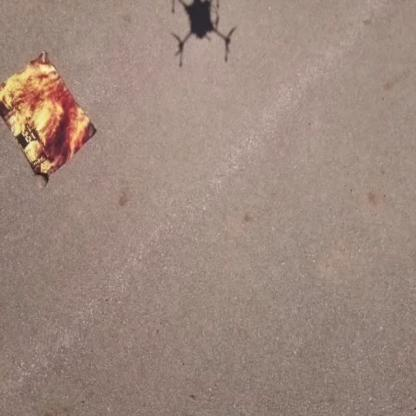fire-poster: (0, 49, 97, 187)
